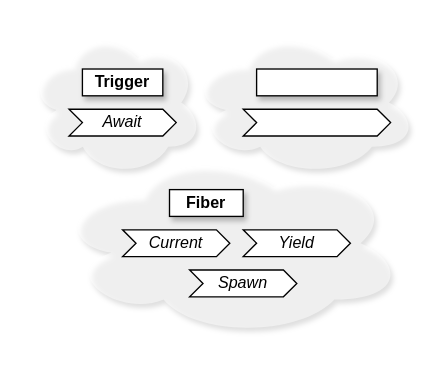
The diagram is 448 pixels wide and 369 high, and some of its shapes have lost their labels. Each missing label, with the centre of its shape:
"Cancel_after" goes at point 316,122.
"Computation" goes at point 317,83.
